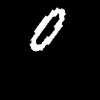chain: (30, 8, 64, 50)
